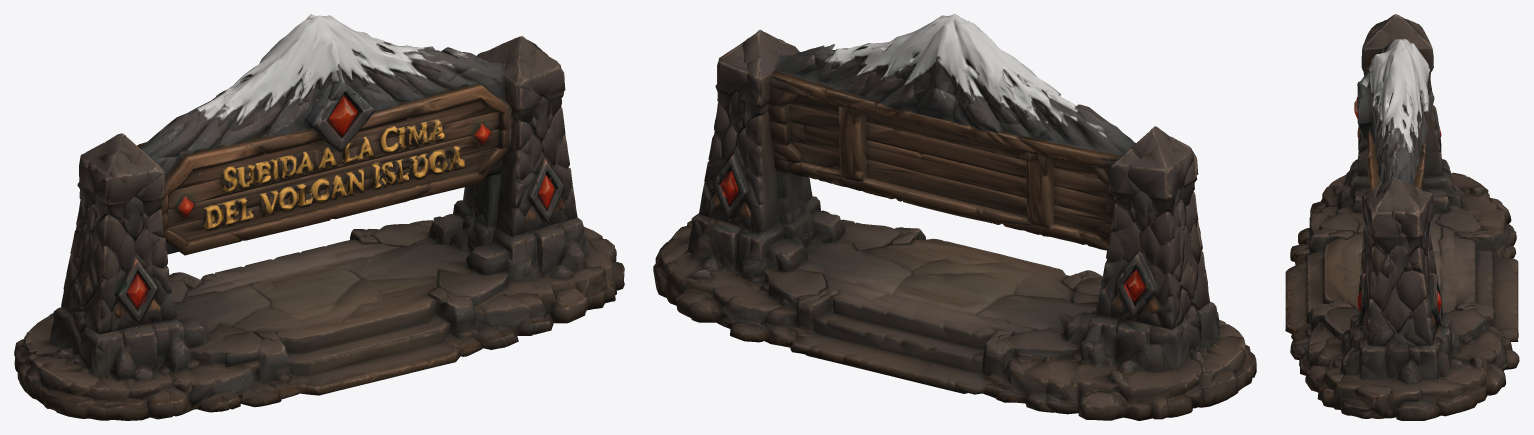
Rendered from subida_a_isluga.glb.
3 renders of one model, left to right at view 1: azimuth 30°, elevation 25°; view 2: azimuth 150°, elevation 25°; view 3: azimuth 270°, elevation 25°, orthographic. The views are drawn at different scales.
Visible parts, largest first — view 1: subida_a_isluga; view 2: subida_a_isluga; view 3: subida_a_isluga.
Boxes of the visible parts, bbox=[...] form: subida_a_isluga: bbox=[14, 14, 624, 420]; subida_a_isluga: bbox=[653, 14, 1256, 420]; subida_a_isluga: bbox=[1285, 14, 1519, 420].
Size of what is drawn, in the model's own units: 8 by 4.19 by 3.36.
1 material, 1 textured.
